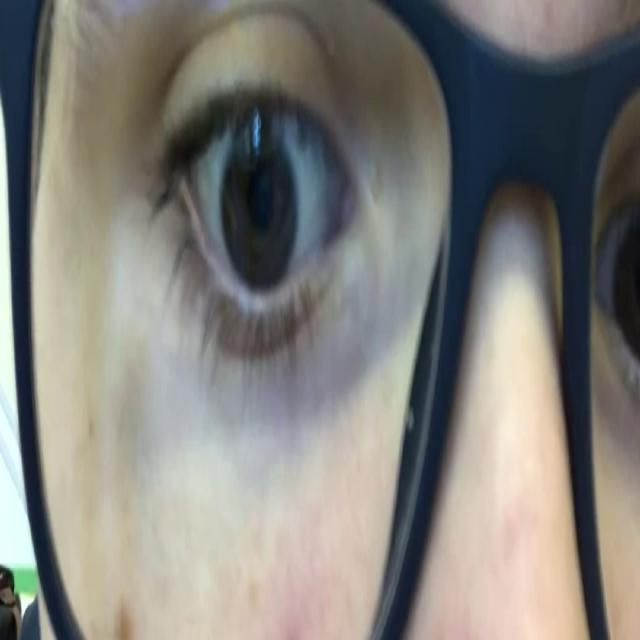eye: (144, 33, 390, 409)
gaze: (219, 123, 298, 294)
